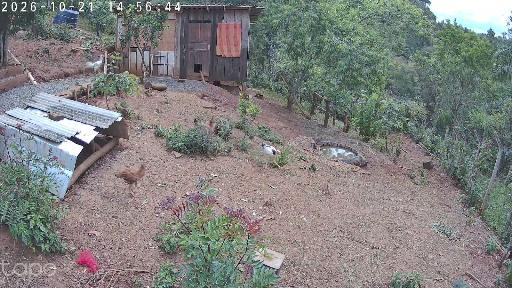frango: (261, 141, 287, 175)
galinha: (113, 162, 150, 198), (191, 120, 217, 135)
galo: (85, 54, 104, 75)
